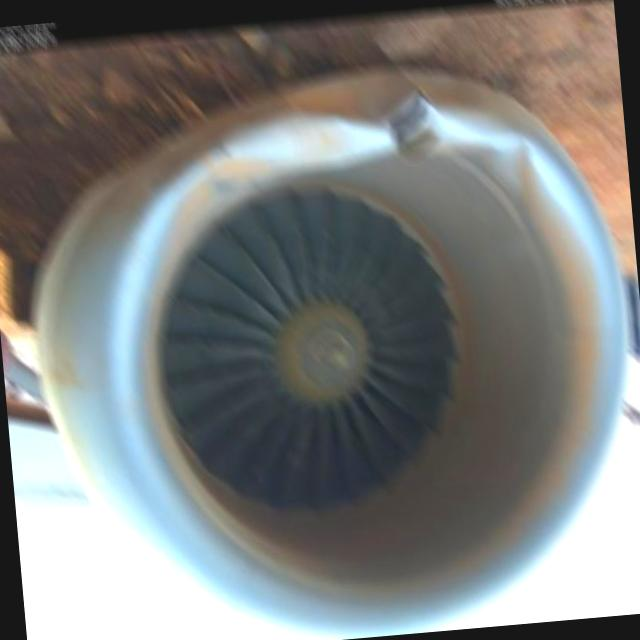dent: (220, 102, 393, 186), (489, 126, 542, 194)
